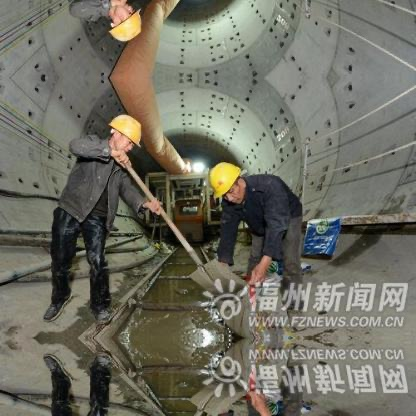Safety Helmet: (205, 159, 254, 209), (102, 110, 144, 161), (100, 1, 146, 44)
